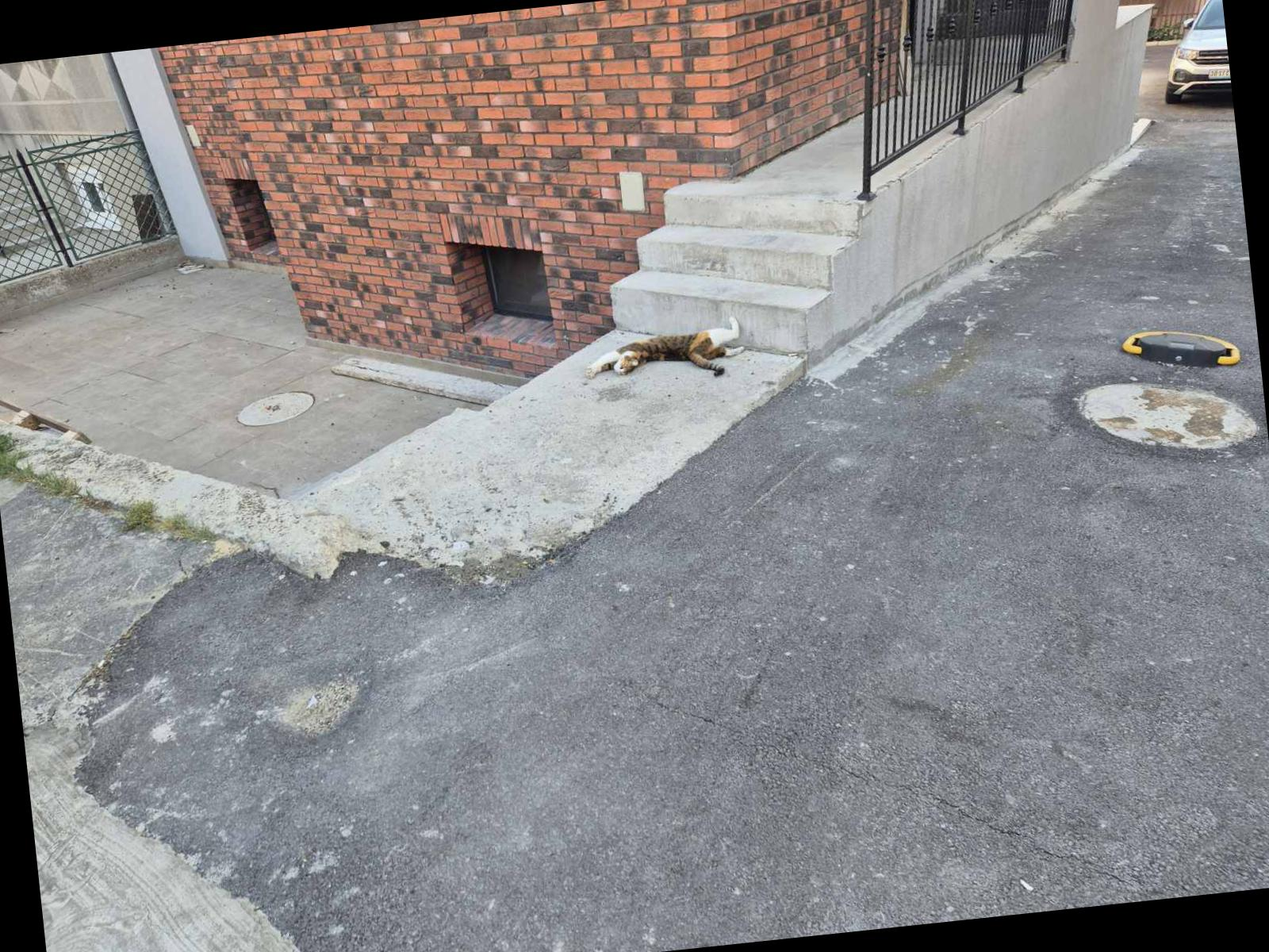macka: (581, 315, 747, 391)
